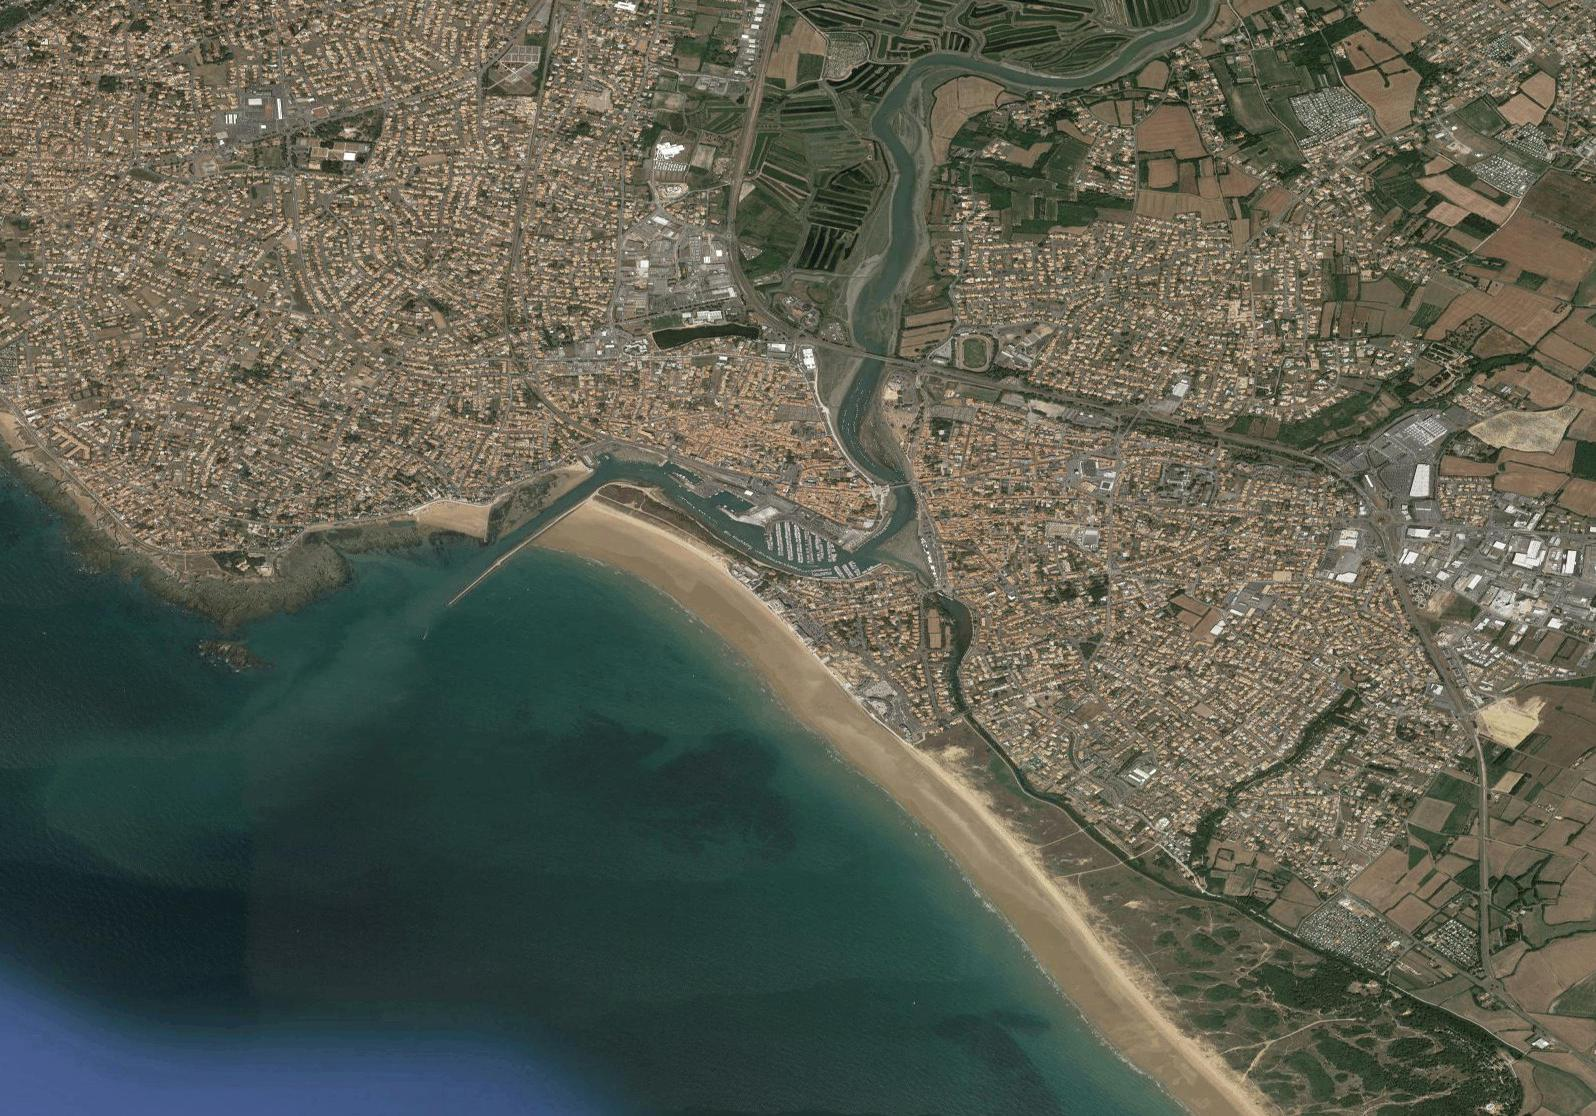harbor: (600, 448, 838, 592)
industrial: (1460, 530, 1591, 630)
motorway: (756, 304, 831, 348), (832, 342, 920, 375), (923, 363, 1018, 391), (725, 224, 753, 311), (726, 143, 753, 224), (743, 72, 765, 146), (762, 1, 783, 74)
